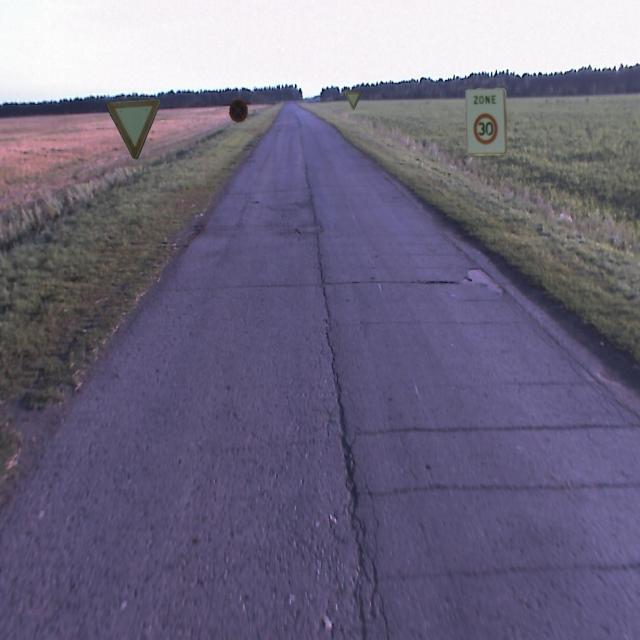road: (0, 102, 639, 639)
